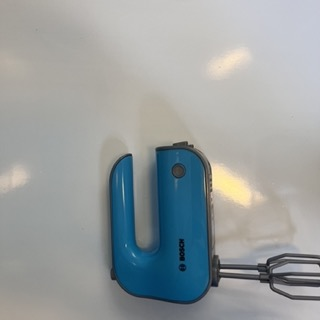mixer: (108, 142, 319, 304)
